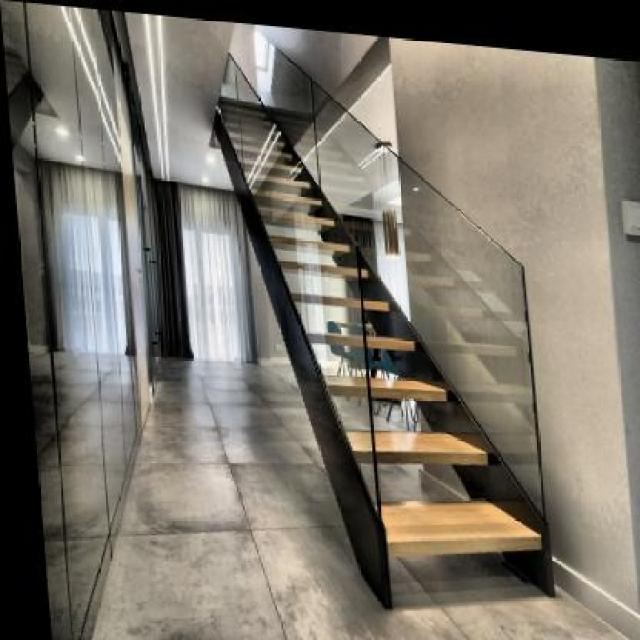stair: (224, 113, 538, 544)
